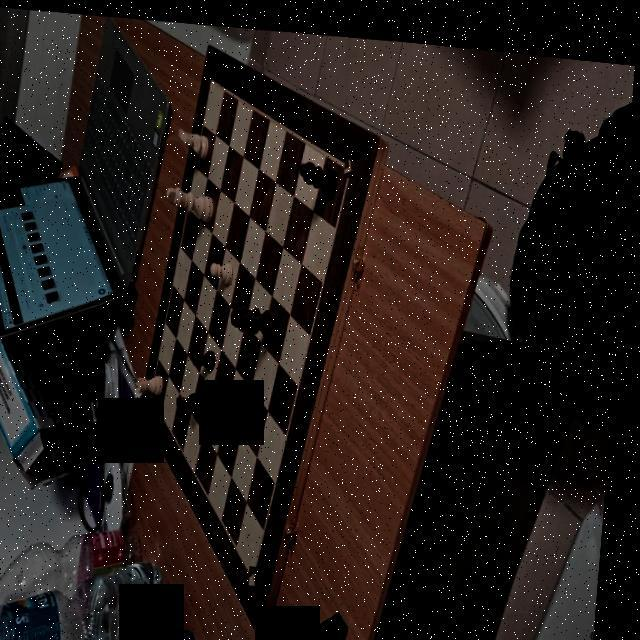chess-table-corners: (346, 150, 356, 170), (258, 558, 266, 578), (208, 69, 216, 82), (154, 386, 160, 396)
